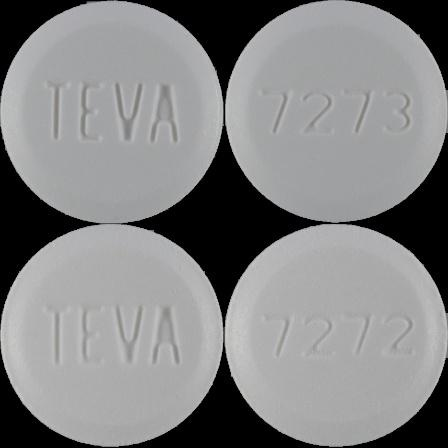54458-864: (0, 0, 224, 224)
